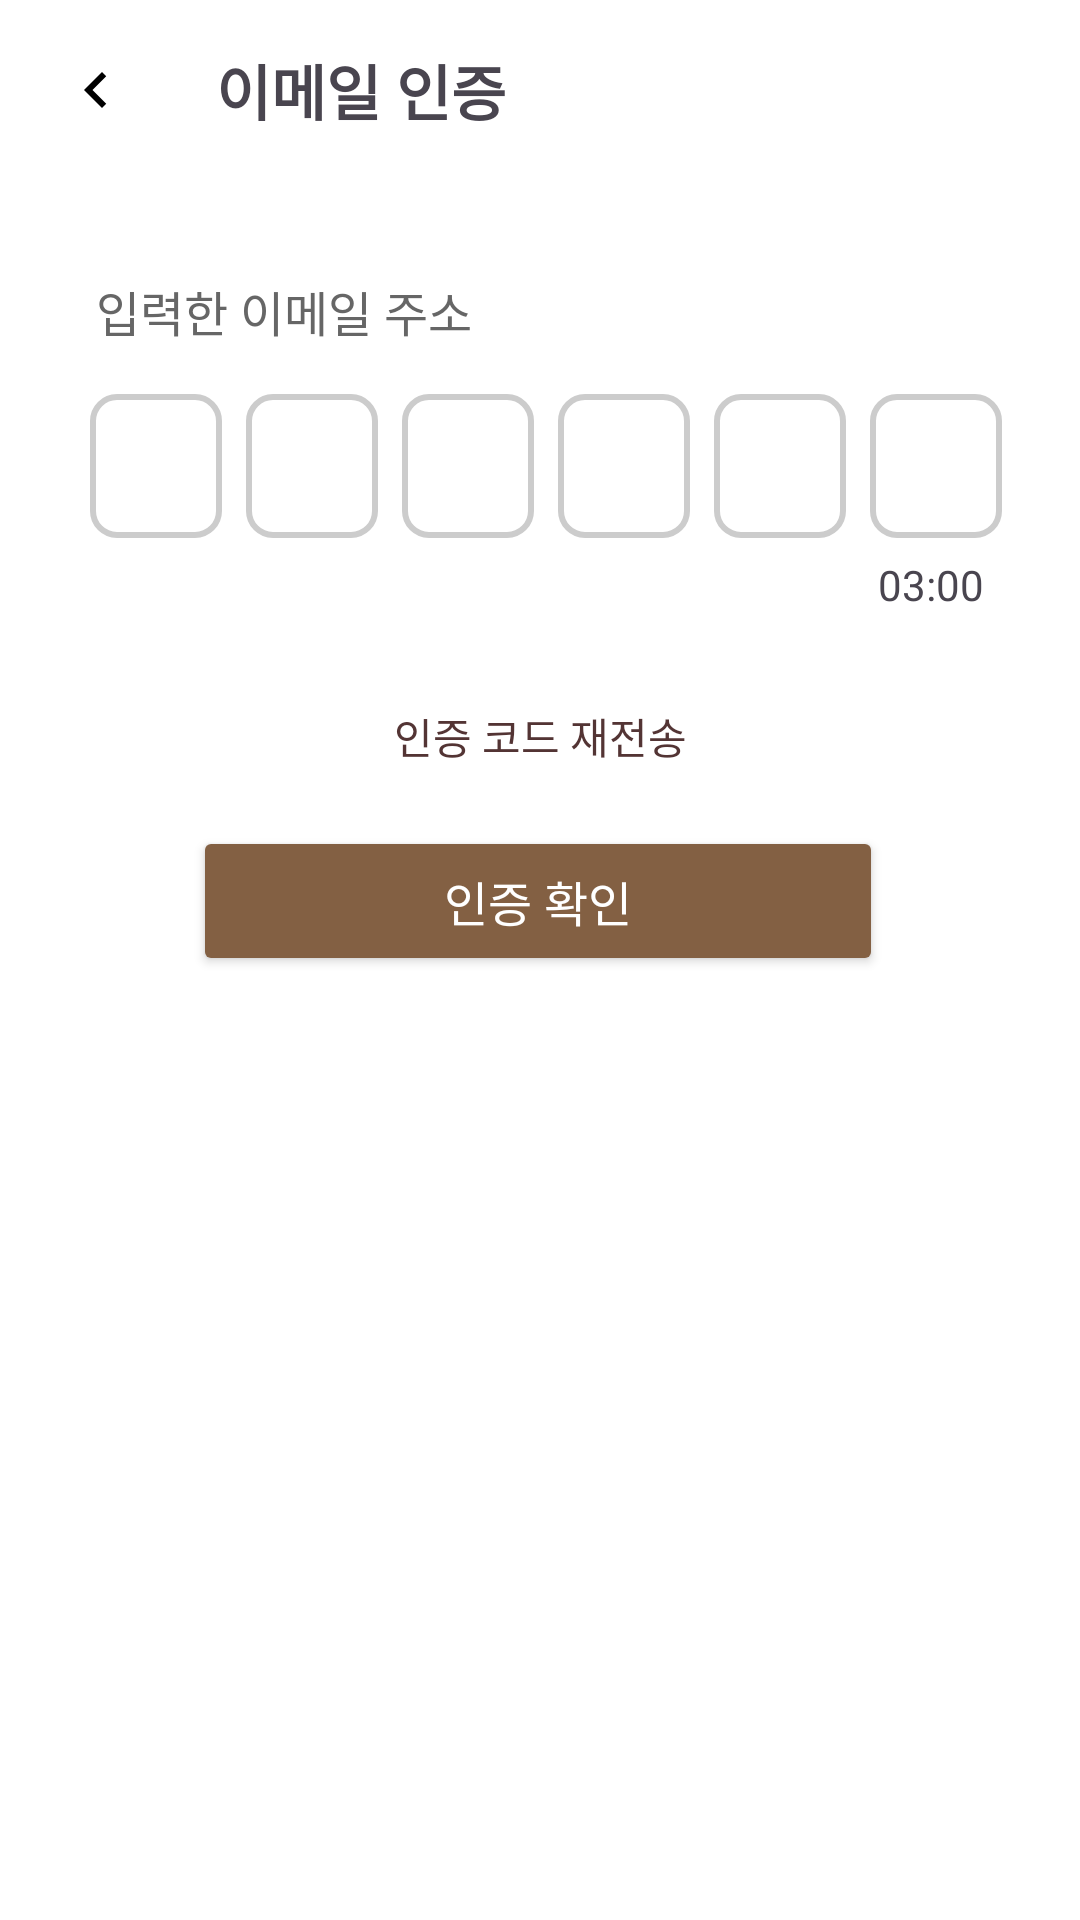

Screen size 1080px x 1920px. Icon name, then its center in pixels as [x,y]:
back: [95,90]
